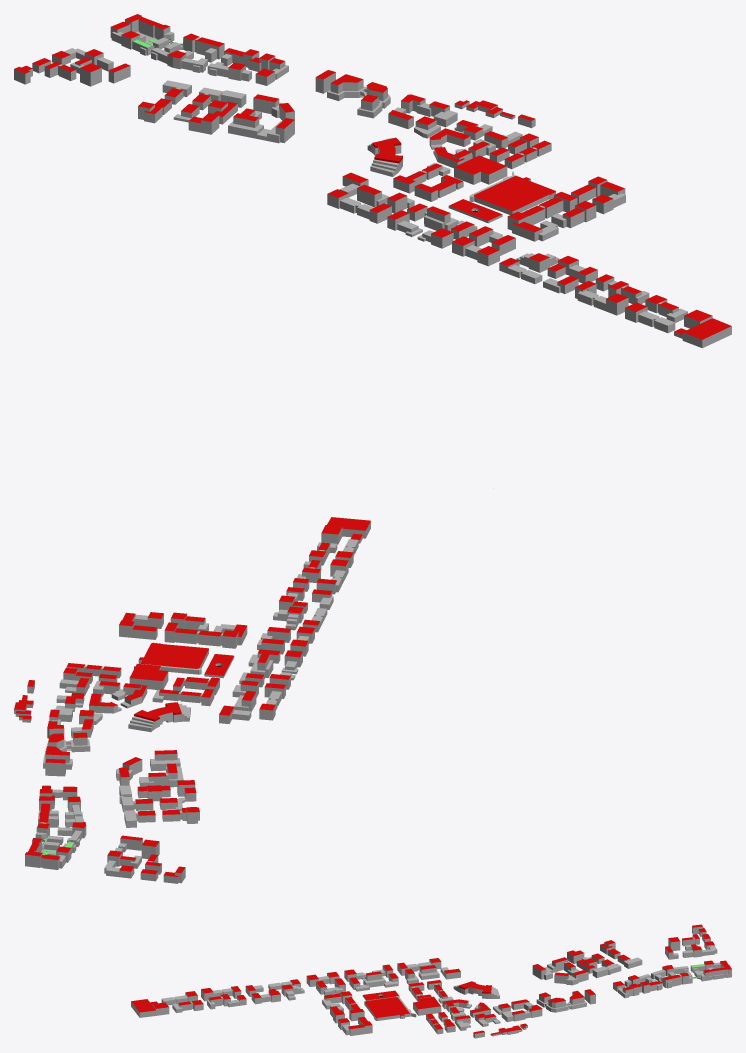
Rendered from marie test.glb.
The picture shows the model from 3 angles, top to bottom: view 1: azimuth 30°, elevation 25°; view 2: azimuth 150°, elevation 25°; view 3: azimuth 270°, elevation 25°; orthographic projection. The views are drawn at different scales.
Visible parts, largest first — view 1: Group#66 [191016]; view 2: Group#66 [191016]; view 3: Group#66 [191016], Group#30 [191149], Group#386 [191428], Group#10 [191131].
Part boxes in pixels (left/top/right/bottom): Group#66 [191016]: left=474, top=175, right=555, bottom=214; Group#66 [191016]: left=138, top=642, right=208, bottom=668; Group#66 [191016]: left=364, top=997, right=409, bottom=1020; Group#30 [191149]: left=413, top=996, right=441, bottom=1010; Group#386 [191428]: left=131, top=999, right=155, bottom=1013; Group#10 [191131]: left=362, top=990, right=399, bottom=1000.
Bounding box in the file's own units: 869 × 33.01 × 2098.
